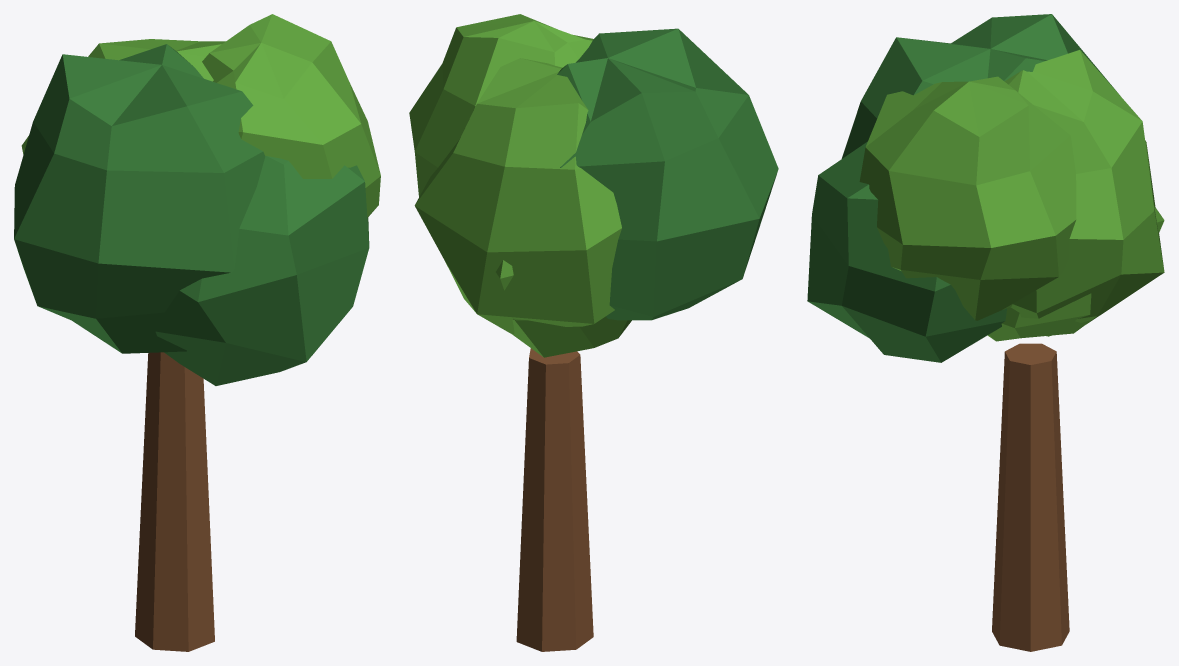
File: tree_round_b.obj
3 renders of one model, left to right at view 1: azimuth 30°, elevation 25°; view 2: azimuth 150°, elevation 25°; view 3: azimuth 270°, elevation 25°, orthographic. The views are drawn at different scales.
Parts seen in each view (by area): view 1: crown, trunk; view 2: crown, trunk; view 3: crown, trunk.
Boxes of the visible parts, left/top/right/bottom form: crown: left=14, top=14, right=380, bottom=385; trunk: left=135, top=352, right=214, bottom=651; crown: left=409, top=14, right=778, bottom=357; trunk: left=516, top=348, right=593, bottom=651; crown: left=807, top=14, right=1164, bottom=362; trunk: left=992, top=343, right=1069, bottom=651.
Bounding box in the file's own units: 1.79 × 2.88 × 1.61.
